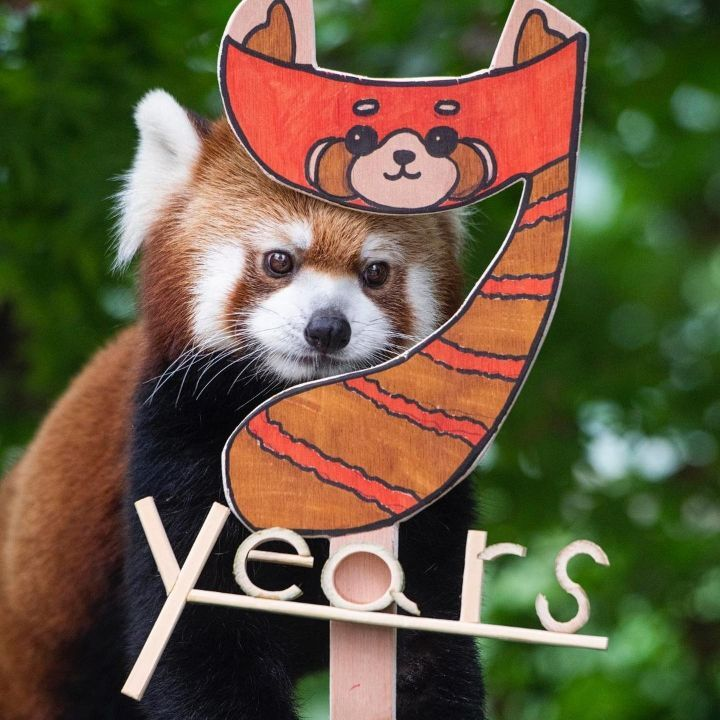redPanda: (116, 107, 482, 470)
